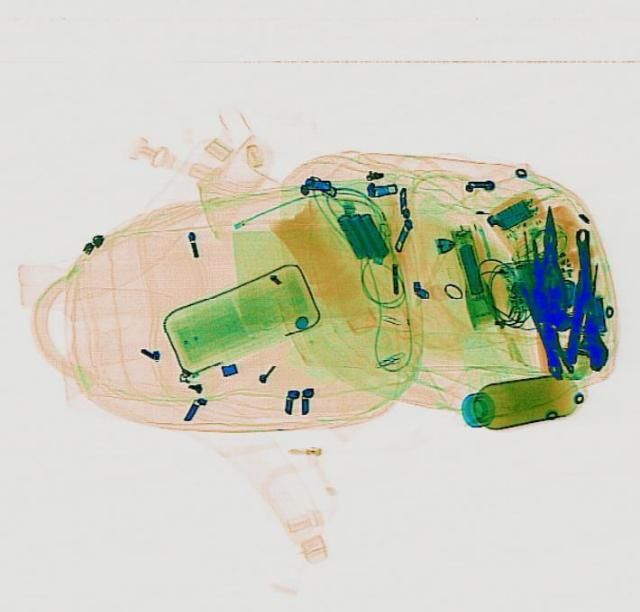Pliers: (527, 203, 571, 307)
Wrench: (568, 225, 606, 369)
